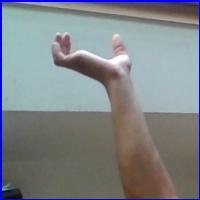B: (50, 27, 139, 84)
